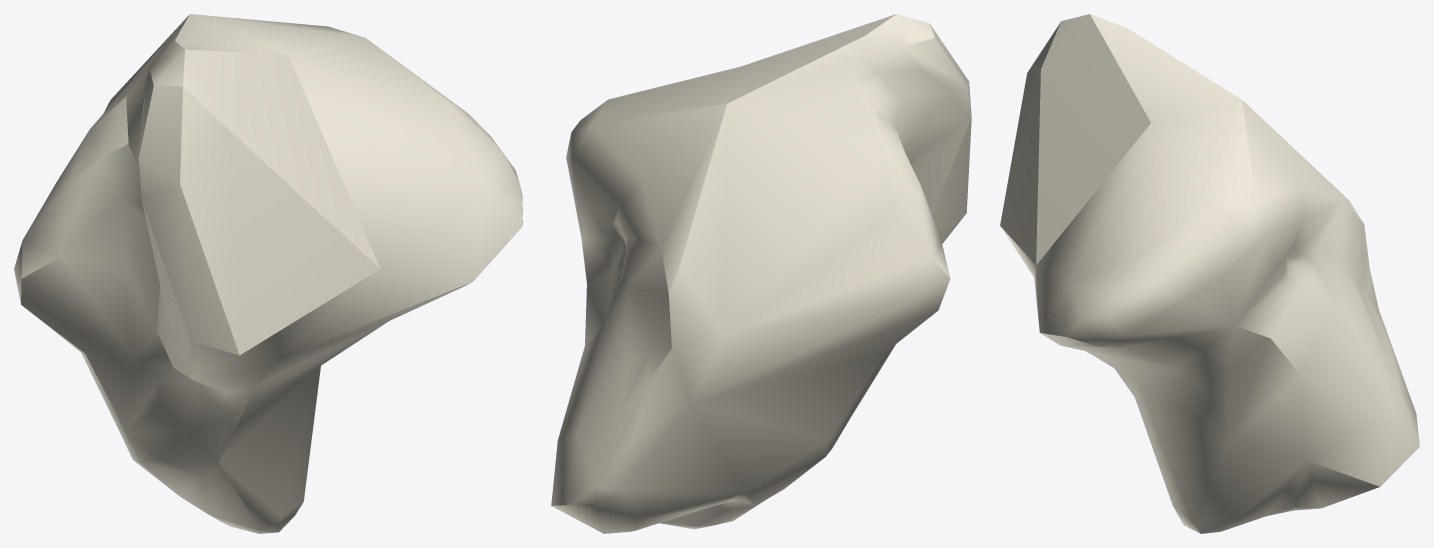
The model's file is fma24444_fj6393.glb.
3 renders of one model, left to right at view 1: azimuth 30°, elevation 25°; view 2: azimuth 150°, elevation 25°; view 3: azimuth 270°, elevation 25°, orthographic. The views are drawn at different scales.
Visible parts, largest first — view 1: FMA24444_FJ6393; view 2: FMA24444_FJ6393; view 3: FMA24444_FJ6393.
Boxes of the visible parts, bbox=[...] form: FMA24444_FJ6393: bbox=[14, 14, 522, 533]; FMA24444_FJ6393: bbox=[551, 14, 971, 533]; FMA24444_FJ6393: bbox=[1000, 14, 1419, 533].
Size of the model in its own units: 0.0169 by 0.0201 by 0.0168.
